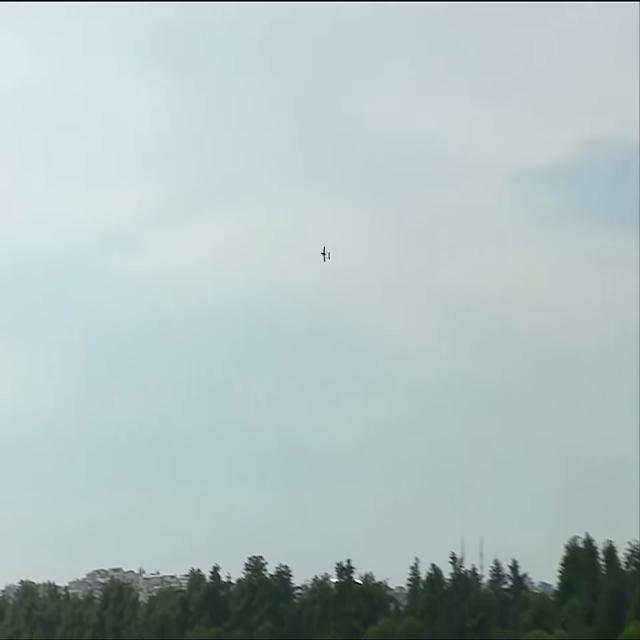iha: (323, 244, 327, 264)
